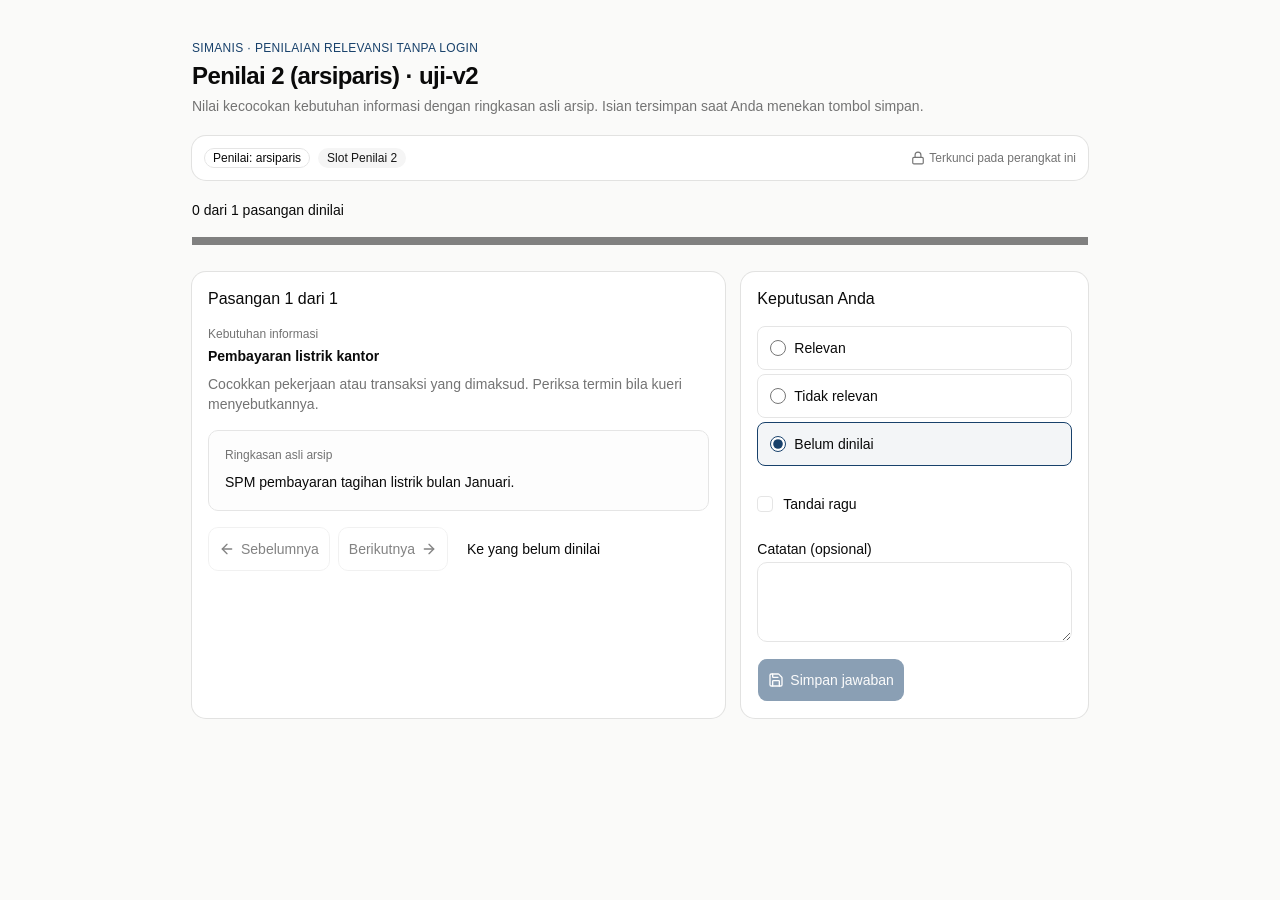
Test: penilai eksternal dapat menilai relevansi lewat /f/rv_ tanpa login dan menyerahkan final
Expected: the text "SPM pembayaran tagihan listrik bulan Januari." is shown, [225, 474, 514, 490]
Expected: the text "Terkunci pada perangkat ini" is shown, [911, 150, 1076, 166]
Click the radio button labelled "Relevan" at (778, 348), box [770, 340, 786, 356]
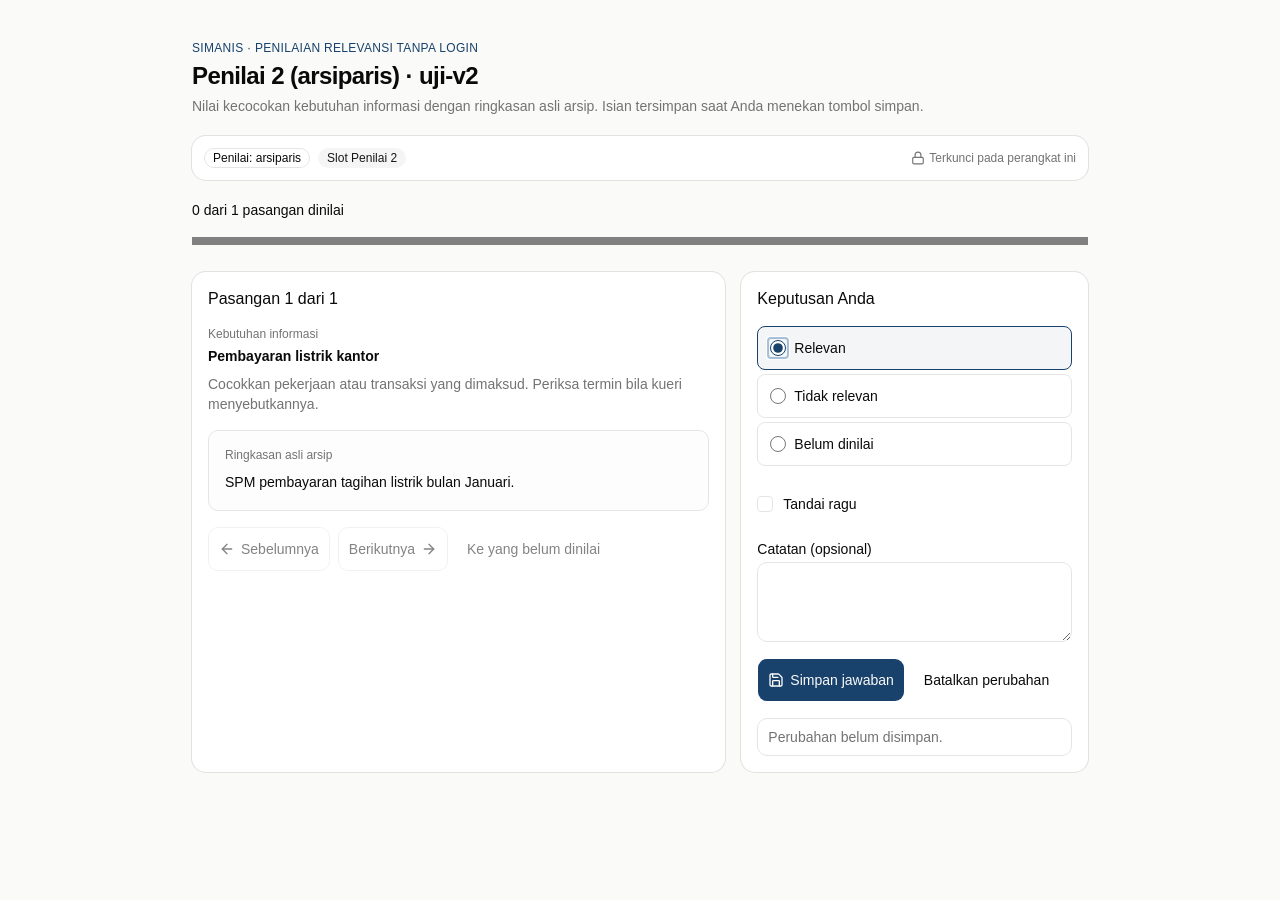
Click the button "Simpan jawaban" at (831, 680), box [757, 658, 905, 702]
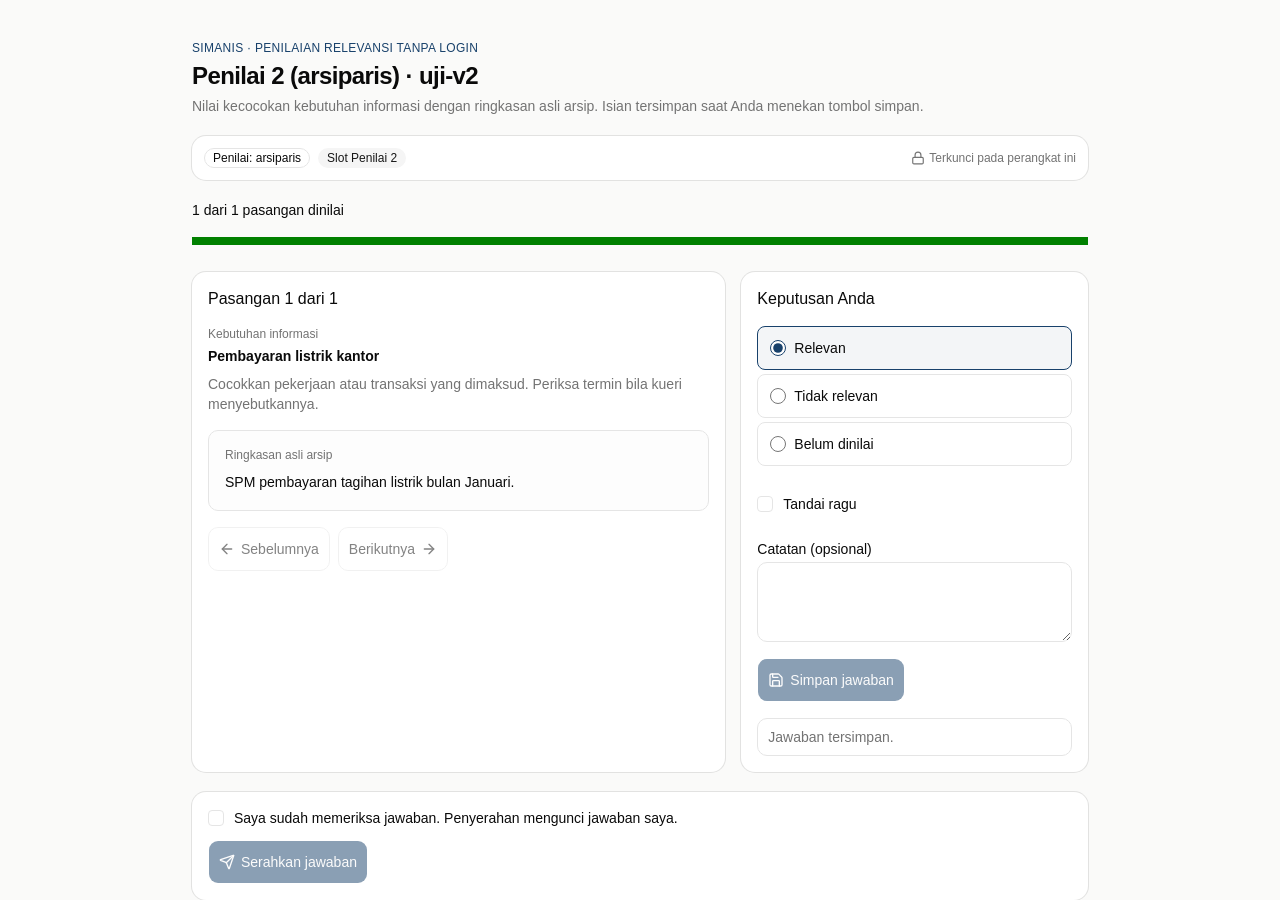
Now the text "1 dari 1 pasangan dinilai" is shown, box [192, 202, 344, 218]
Click the 2nd checkbox named "Saya sudah memeriksa jawaban" at (216, 818), box [208, 810, 224, 826]
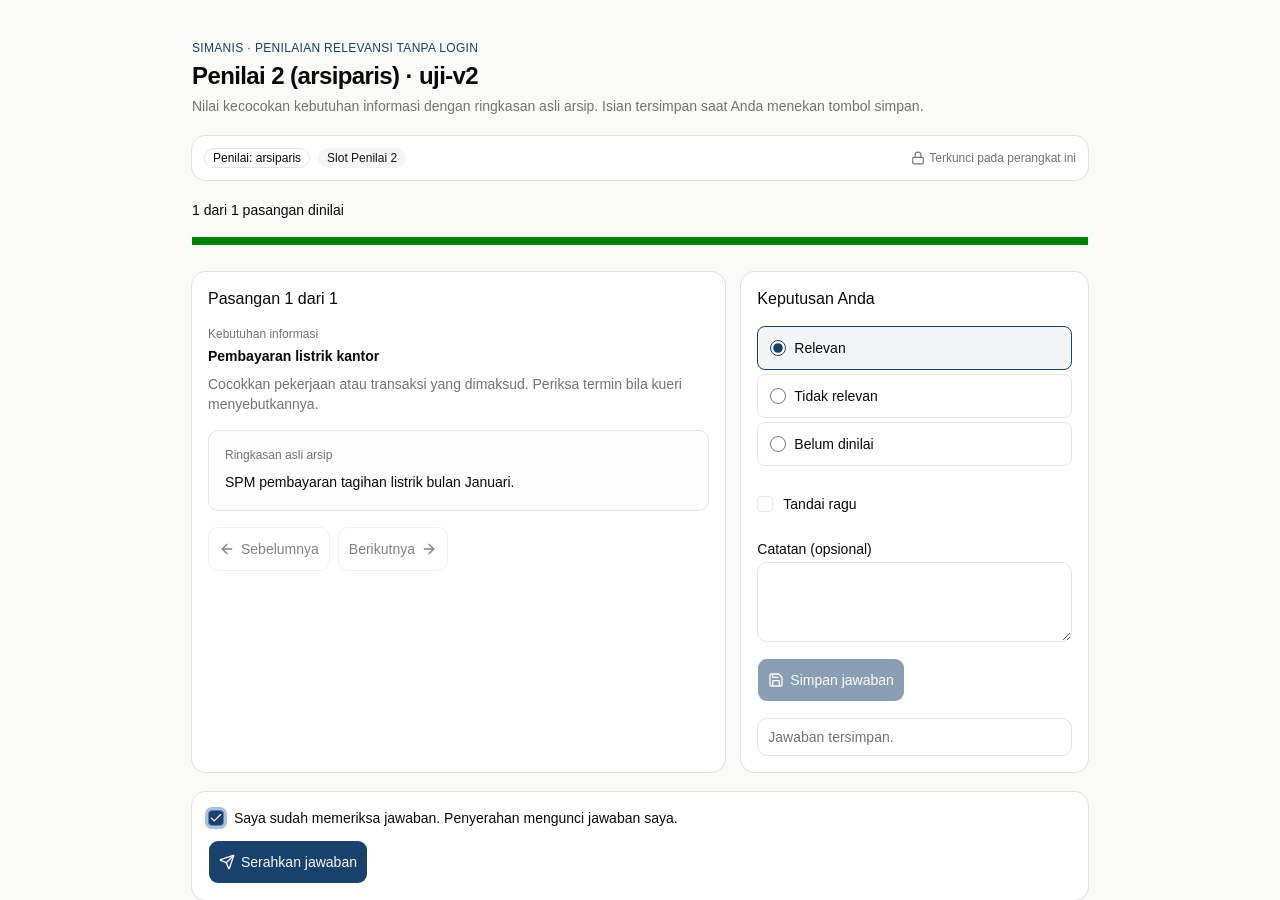
Click the button "Serahkan jawaban" at (288, 862), box [208, 840, 368, 884]
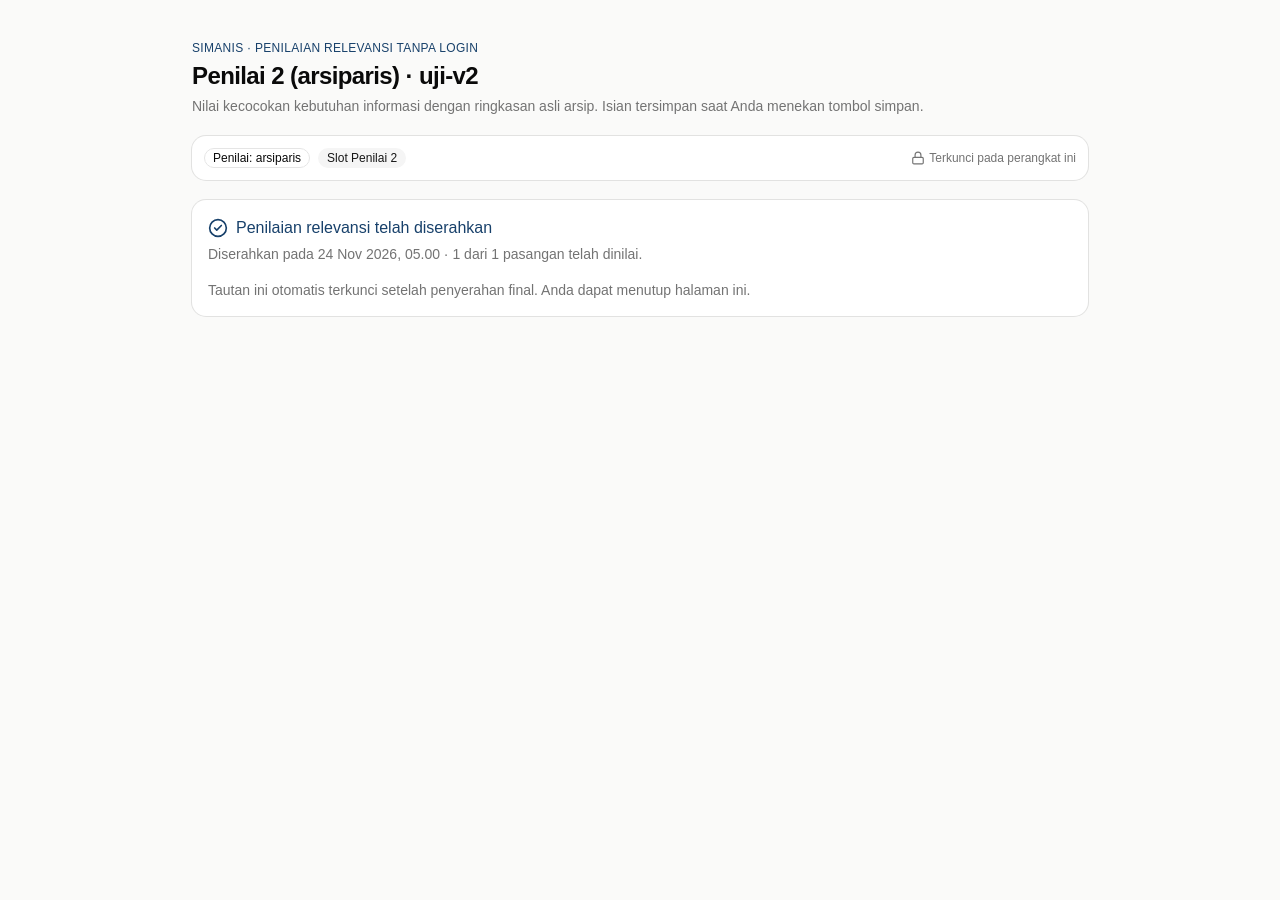
Now the text "Penilaian relevansi telah diserahkan" is shown, box [208, 218, 492, 238]
